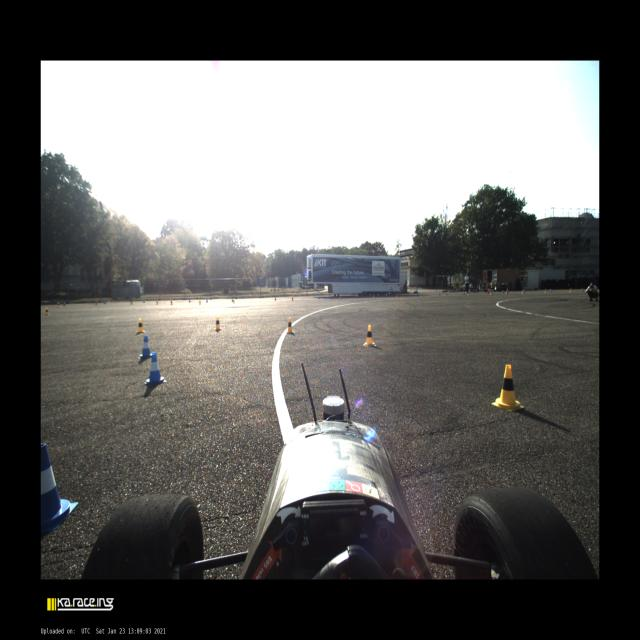blue_cone: (41, 443, 78, 531), (145, 352, 166, 385), (139, 335, 154, 359), (64, 301, 66, 306), (550, 288, 552, 292), (318, 295, 320, 299), (104, 300, 106, 304), (143, 299, 145, 303), (189, 298, 191, 302), (356, 294, 358, 298), (463, 290, 465, 294), (523, 289, 525, 293), (206, 299, 208, 302), (502, 290, 504, 293), (582, 288, 584, 291), (275, 296, 276, 301), (439, 292, 440, 296), (232, 298, 233, 302), (386, 293, 387, 297), (417, 292, 418, 296)
large_orange_cone: (506, 288, 508, 294), (488, 288, 490, 294)
yellow_cone: (492, 364, 523, 411), (363, 325, 376, 346), (136, 318, 146, 334), (286, 317, 294, 333), (214, 316, 221, 330), (44, 307, 50, 315), (57, 302, 61, 308), (170, 299, 173, 305), (156, 300, 159, 305), (291, 296, 294, 301), (444, 292, 447, 297), (96, 300, 98, 306), (233, 298, 235, 304), (468, 290, 470, 296), (489, 291, 492, 295), (373, 294, 375, 299), (421, 292, 423, 297), (570, 288, 572, 293), (199, 300, 201, 305), (396, 294, 398, 298), (544, 289, 546, 293), (131, 300, 133, 304), (340, 294, 341, 300), (522, 289, 523, 294)
